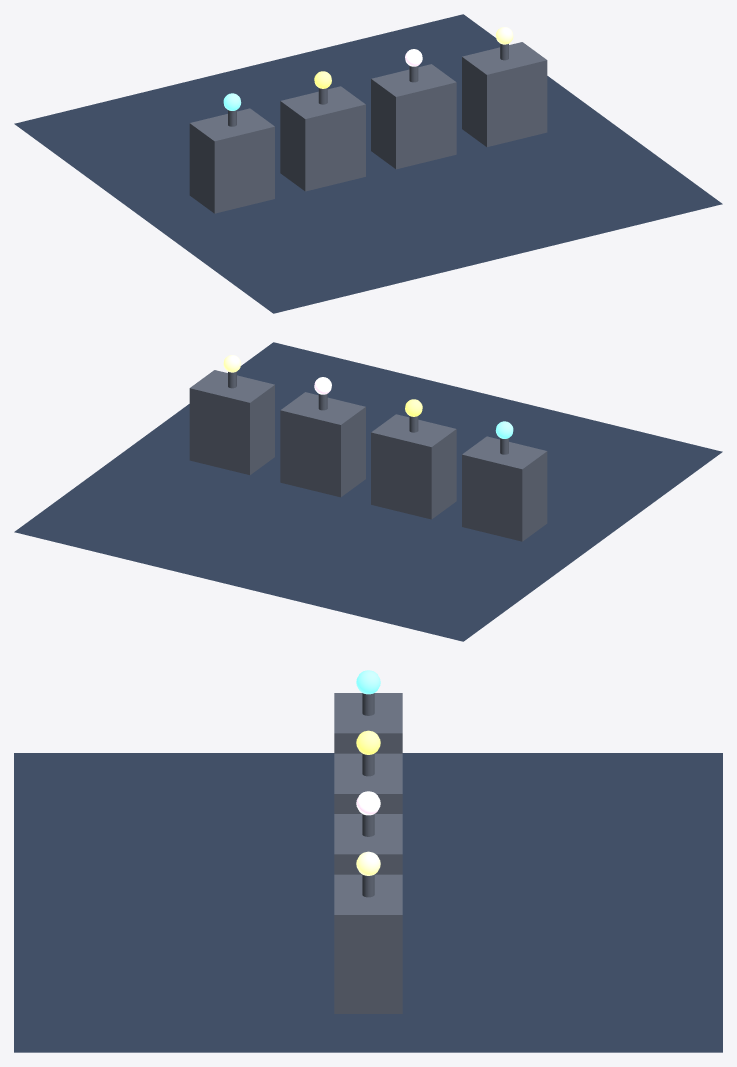
The model's file is asset-tracker.glb.
The picture shows the model from 3 angles, top to bottom: view 1: azimuth 30°, elevation 25°; view 2: azimuth 150°, elevation 25°; view 3: azimuth 270°, elevation 25°; orthographic projection. The views are drawn at different scales.
Visible parts, largest first — view 1: Pad, Asset_1, Asset_2, Asset_0, Asset_3; view 2: Pad, Asset_1, Asset_2, Asset_0, Asset_3; view 3: Pad, Asset_3, Asset_1, Asset_0, Asset_2.
Part boxes in pixels (x1,y1,x2,y2): Pad: (14,14,722,313); Asset_1: (280,86,365,191); Asset_2: (371,64,456,169); Asset_0: (189,108,274,213); Asset_3: (462,42,547,146); Pad: (14,342,722,641); Asset_1: (371,414,456,519); Asset_2: (280,392,365,497); Asset_0: (462,436,547,541); Asset_3: (189,370,274,474); Pad: (14,753,722,1052); Asset_3: (334,874,402,1013); Asset_1: (334,753,402,813); Asset_0: (334,693,402,753); Asset_2: (334,814,402,874).
Size of the model in its own units: 5.2 by 1.14 by 5.2.
